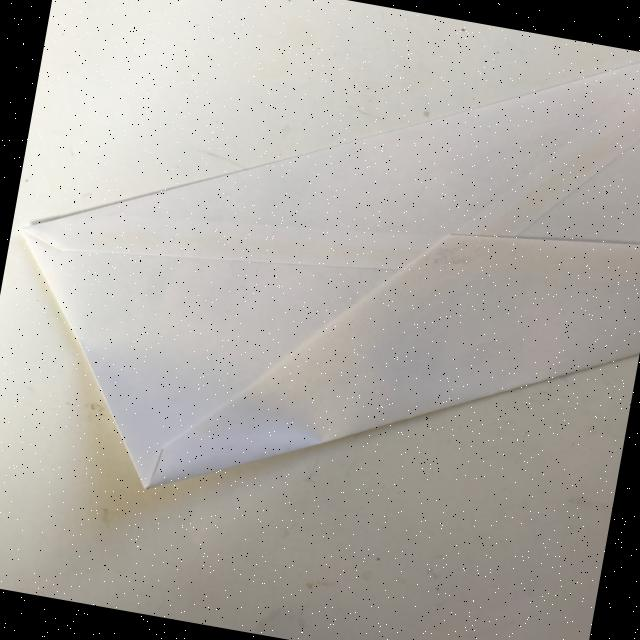paper: (0, 0, 640, 570)
